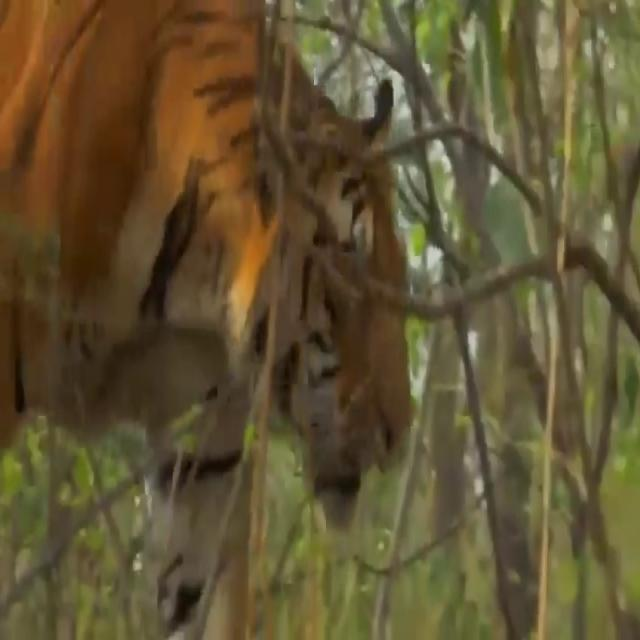tiger: (0, 0, 413, 640)
